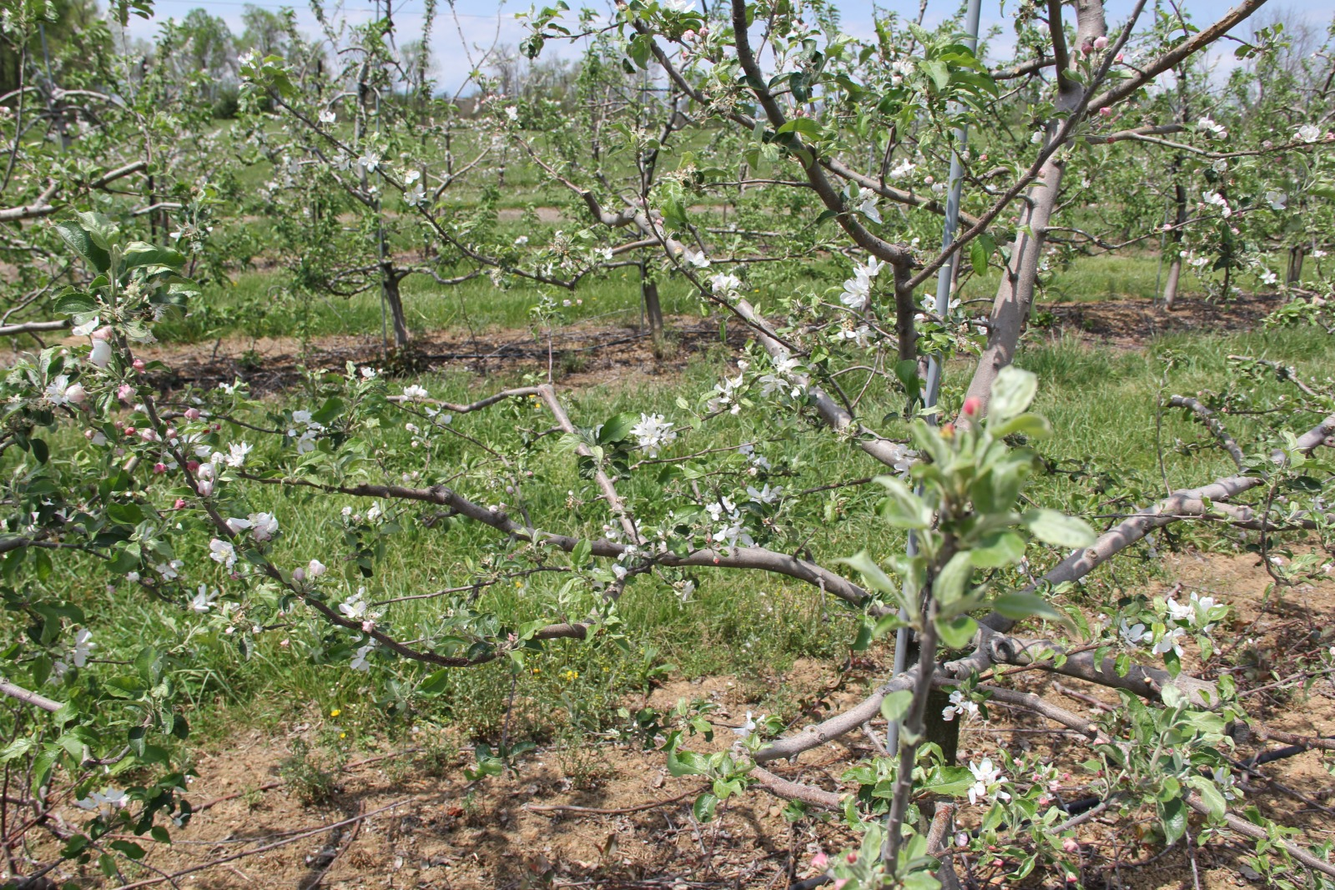flower: (1152, 597, 1197, 657), (840, 255, 885, 309), (73, 317, 115, 372), (630, 413, 678, 458), (199, 440, 254, 479), (968, 758, 1010, 806), (226, 511, 279, 543), (713, 520, 758, 551), (46, 375, 88, 407), (78, 785, 131, 810), (943, 691, 980, 721), (1120, 616, 1154, 648), (350, 636, 378, 674), (854, 188, 883, 224), (209, 539, 238, 575), (72, 629, 97, 667), (1203, 189, 1234, 219), (339, 587, 367, 618), (716, 373, 743, 403), (747, 484, 784, 505), (846, 324, 877, 349), (759, 373, 789, 397), (193, 584, 219, 610), (293, 409, 323, 430), (404, 180, 428, 206), (733, 711, 756, 738), (711, 273, 742, 293), (156, 560, 184, 581), (297, 430, 320, 455), (890, 158, 916, 179), (1199, 113, 1226, 133), (359, 148, 381, 172), (664, 0, 696, 14), (1266, 189, 1287, 210), (310, 551, 328, 575), (685, 251, 710, 268), (893, 58, 915, 77), (773, 353, 793, 372), (1200, 597, 1225, 612), (1298, 125, 1321, 141), (704, 502, 723, 521), (195, 478, 214, 496), (606, 527, 626, 543), (404, 385, 428, 398), (992, 787, 1011, 803), (753, 455, 772, 470), (612, 564, 628, 581), (193, 445, 212, 458), (1262, 269, 1278, 284), (368, 501, 380, 520), (1212, 158, 1227, 173), (406, 169, 421, 184), (723, 497, 736, 514), (506, 105, 518, 120), (599, 247, 614, 259), (683, 581, 695, 595), (738, 445, 754, 455), (890, 75, 903, 87), (293, 568, 306, 580), (361, 367, 375, 378), (1204, 624, 1217, 634), (731, 405, 742, 415), (844, 186, 852, 199), (327, 112, 336, 123), (341, 506, 352, 515), (442, 415, 452, 424), (1191, 592, 1199, 602)
